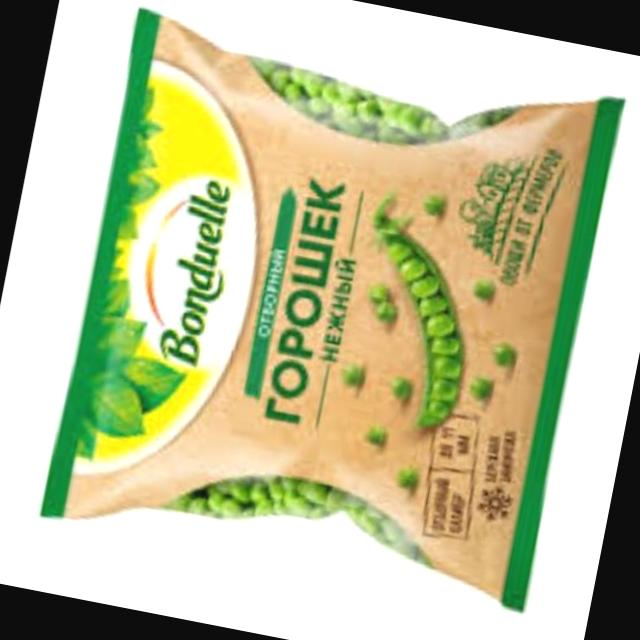peas: (238, 38, 498, 159), (349, 199, 480, 426), (182, 447, 419, 572), (314, 385, 403, 468), (368, 448, 428, 507), (440, 372, 510, 416), (398, 176, 455, 228), (458, 251, 504, 314), (351, 281, 402, 332), (322, 360, 373, 410), (478, 341, 525, 378), (387, 370, 415, 408)
